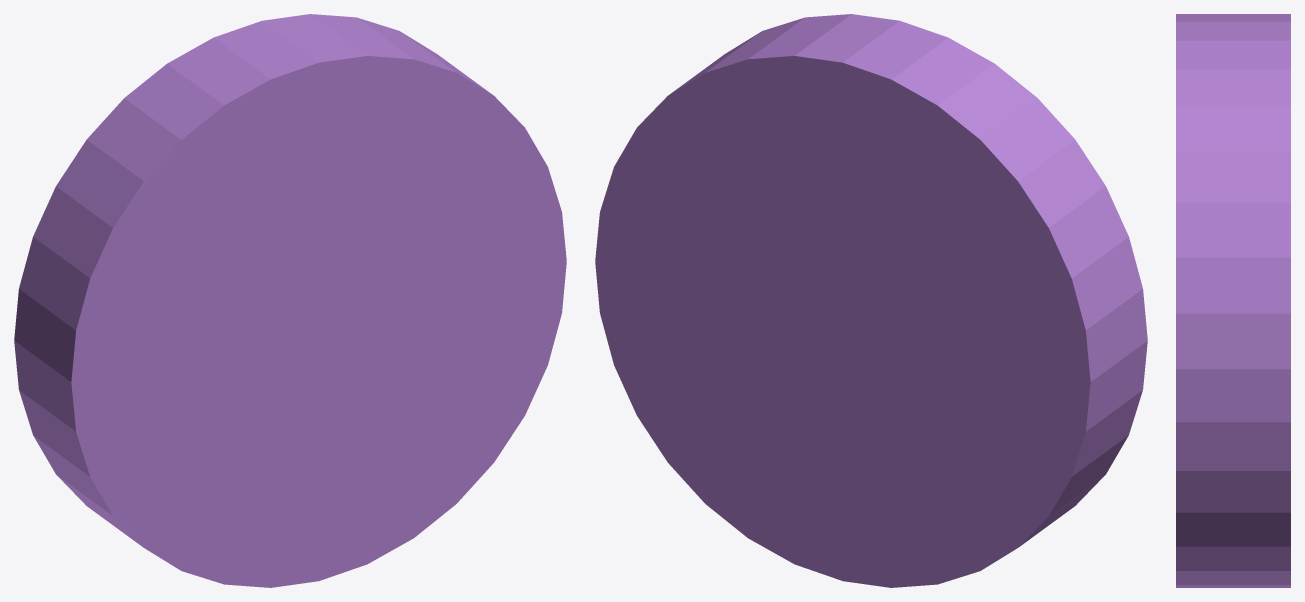
The model's file is scheduler_node.glb.
3 renders of one model, left to right at view 1: azimuth 30°, elevation 25°; view 2: azimuth 150°, elevation 25°; view 3: azimuth 270°, elevation 25°, orthographic.
Visible parts, largest first — view 1: world; view 2: world; view 3: world.
Boxes of the visible parts, box(x1,y1,x2,y2) form: world: box(14, 14, 566, 587); world: box(595, 14, 1147, 587); world: box(1176, 14, 1290, 587).
Size of the model in its own units: 1 by 1 by 0.2.
